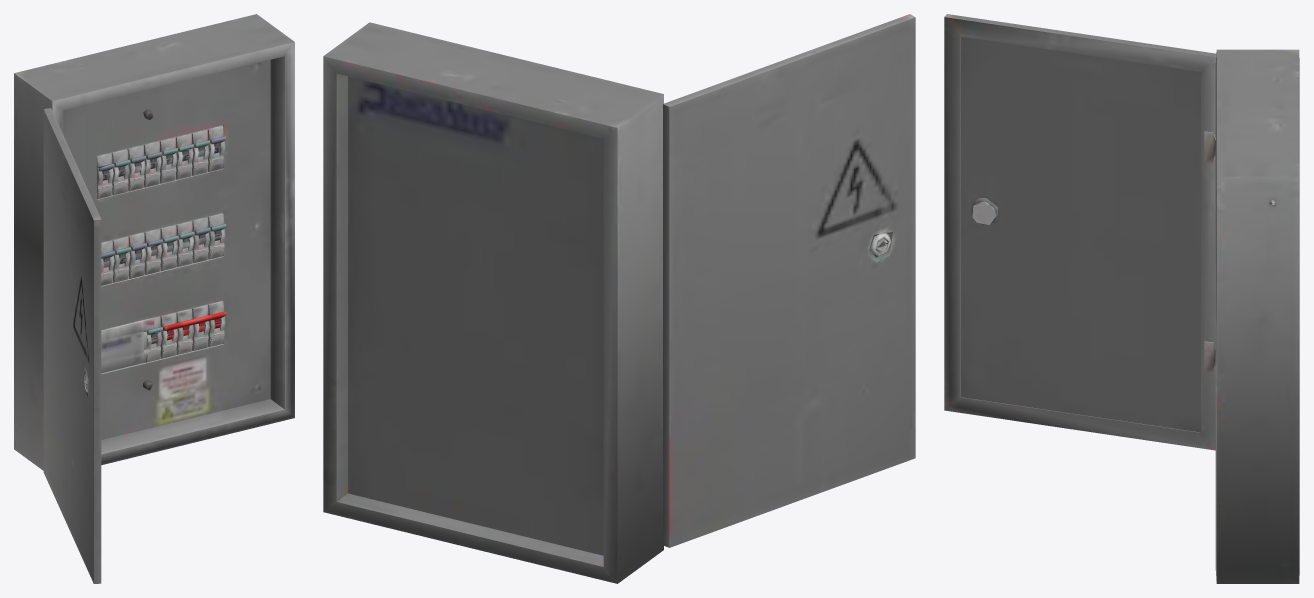
The model's file is power_box_01.glb.
The picture shows the model from 3 angles, left to right: view 1: azimuth 30°, elevation 25°; view 2: azimuth 150°, elevation 25°; view 3: azimuth 270°, elevation 25°; orthographic projection. The views are drawn at different scales.
Visible parts, largest first — view 1: power_box_01_box, power_box_01_door; view 2: power_box_01_box, power_box_01_door; view 3: power_box_01_door, power_box_01_box.
Boxes of the visible parts, x1,y1,x2,y2 form: power_box_01_box: (14, 14, 294, 470); power_box_01_door: (43, 108, 101, 583); power_box_01_box: (323, 22, 663, 583); power_box_01_door: (663, 14, 915, 547); power_box_01_door: (944, 14, 1216, 450); power_box_01_box: (1215, 49, 1299, 583).
Size of the model in its own units: 0.4609 by 0.5031 by 0.399.
Materials: 1 (1 with a texture image).
